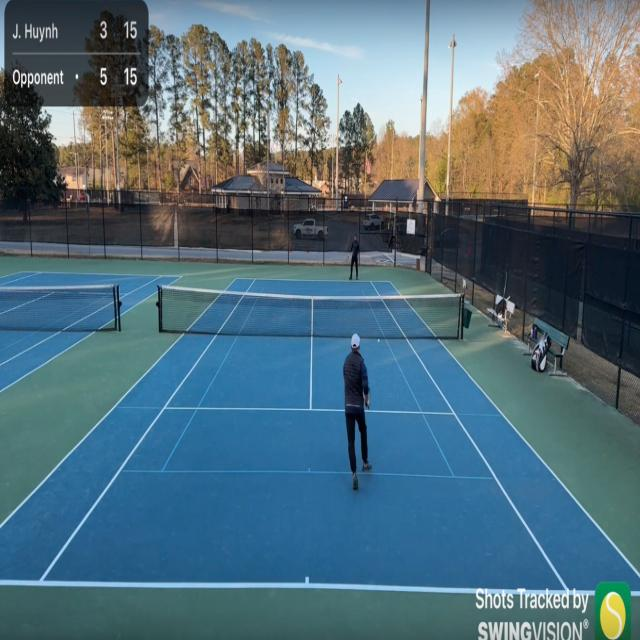ball: (377, 338, 380, 343), (322, 263, 323, 267)
